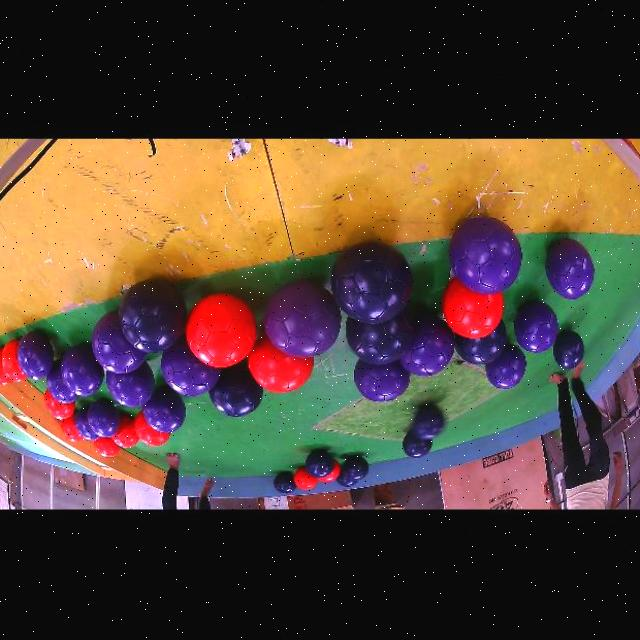B: (331, 242, 413, 324), (119, 280, 186, 352), (345, 310, 414, 365), (209, 358, 263, 417), (456, 320, 506, 365), (412, 404, 444, 440), (554, 330, 583, 369), (305, 449, 334, 478), (403, 431, 433, 458), (342, 455, 369, 481), (274, 472, 296, 494), (337, 469, 358, 488)
P: (263, 280, 341, 357), (448, 215, 522, 294), (162, 334, 221, 396), (92, 311, 146, 373), (399, 315, 454, 375), (546, 238, 594, 299), (354, 360, 411, 402), (514, 300, 558, 352), (106, 361, 155, 406), (61, 344, 103, 396), (142, 386, 186, 433), (485, 343, 525, 389), (17, 331, 54, 379), (47, 359, 78, 404), (87, 398, 120, 437), (75, 406, 100, 440)
R: (186, 293, 257, 368), (248, 333, 314, 392), (442, 277, 503, 338), (134, 411, 171, 446), (2, 339, 27, 382), (44, 389, 75, 419), (111, 415, 138, 448), (61, 414, 83, 442), (293, 467, 318, 490), (94, 437, 120, 458), (318, 459, 341, 482), (0, 347, 11, 386)
